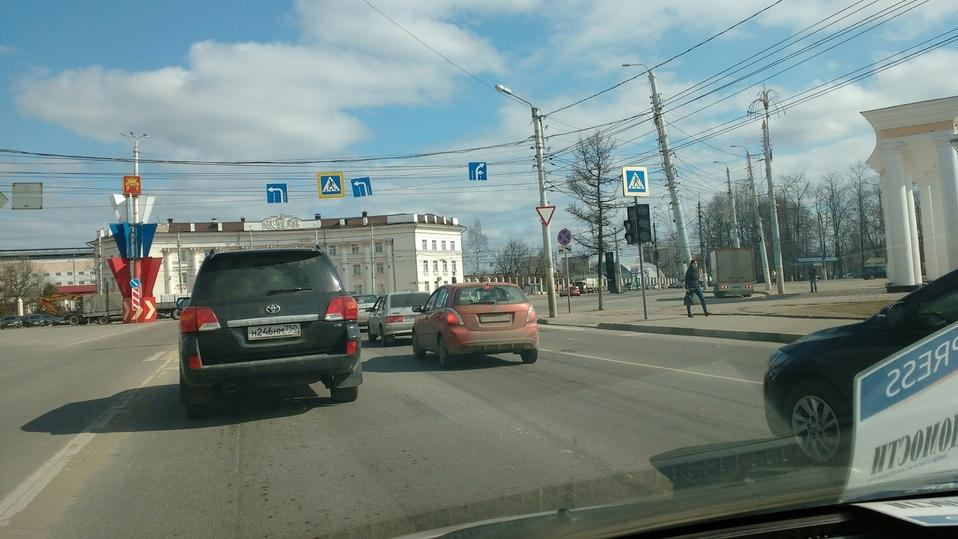off traffic light: (636, 204, 651, 242), (623, 220, 637, 245)
road_sign: (622, 166, 649, 195), (318, 172, 345, 198), (535, 206, 556, 226), (266, 184, 288, 203), (351, 178, 372, 197), (469, 162, 487, 180), (557, 229, 571, 246), (132, 288, 140, 310), (130, 279, 140, 288)
